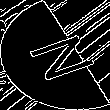N_NE: (13, 26, 97, 84)
